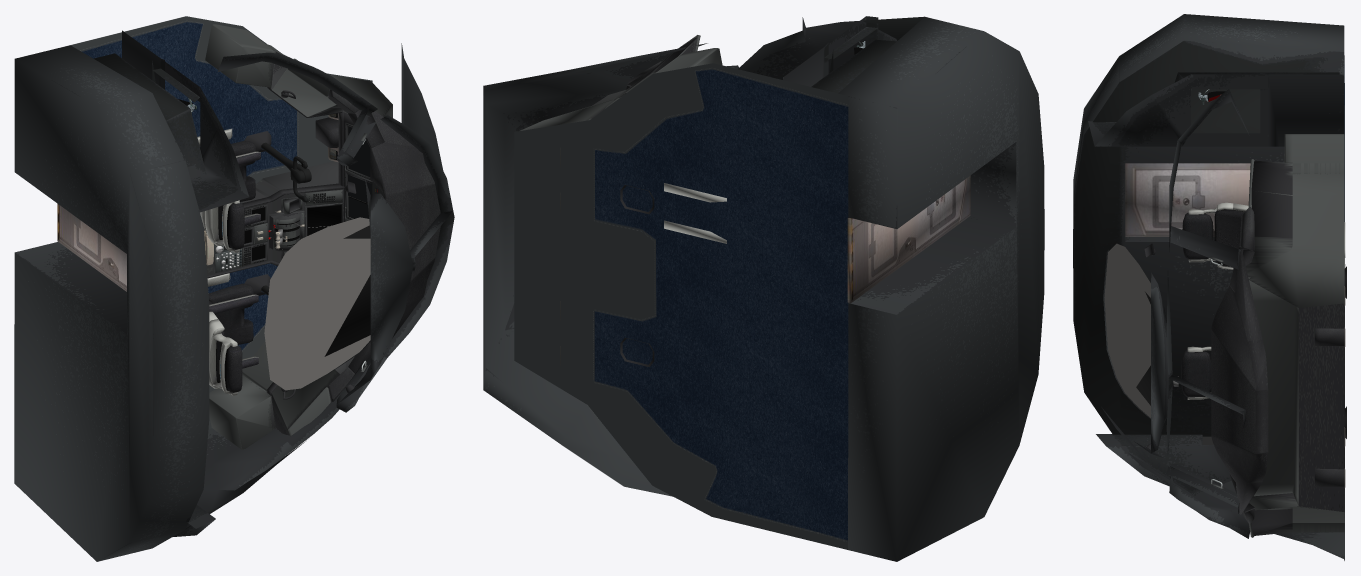
Rendered from b787-9-cockpit.glb.
The picture shows the model from 3 angles, left to right: view 1: azimuth 30°, elevation 25°; view 2: azimuth 150°, elevation 25°; view 3: azimuth 270°, elevation 25°; orthographic projection. The views are drawn at different scales.
Bounding box in the file's own units: 3.29 × 3.69 × 2.05.
Materials: 46 (42 with a texture image).
